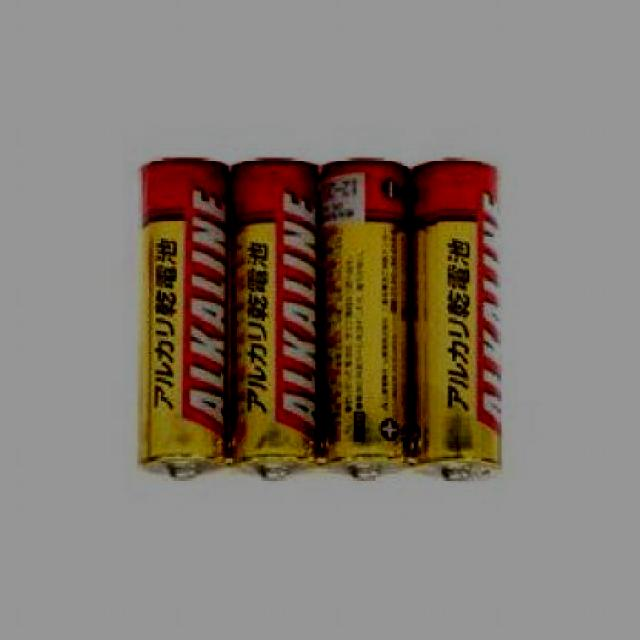AA: (132, 154, 235, 488), (410, 150, 504, 492), (228, 152, 324, 486), (323, 152, 417, 485)
